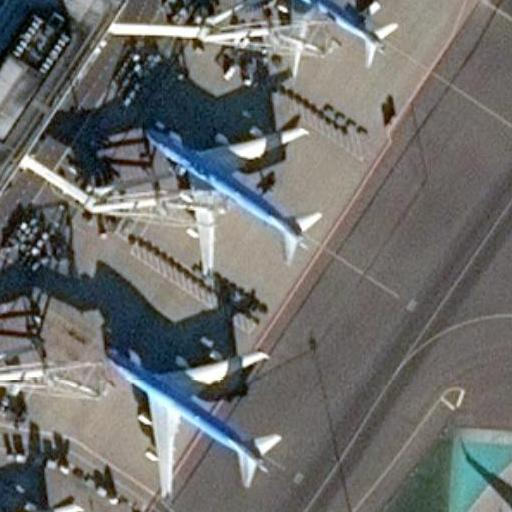Aircraft: (138, 119, 322, 278), (97, 339, 283, 494), (249, 0, 398, 72), (0, 492, 97, 512), (475, 468, 512, 512)
